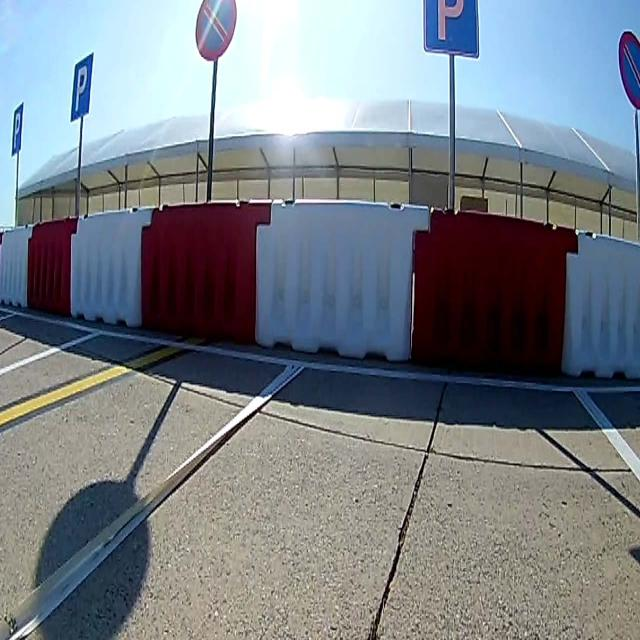park: (423, 1, 479, 58), (71, 54, 91, 118), (11, 106, 23, 150)
parkyasak: (195, 1, 237, 59)
